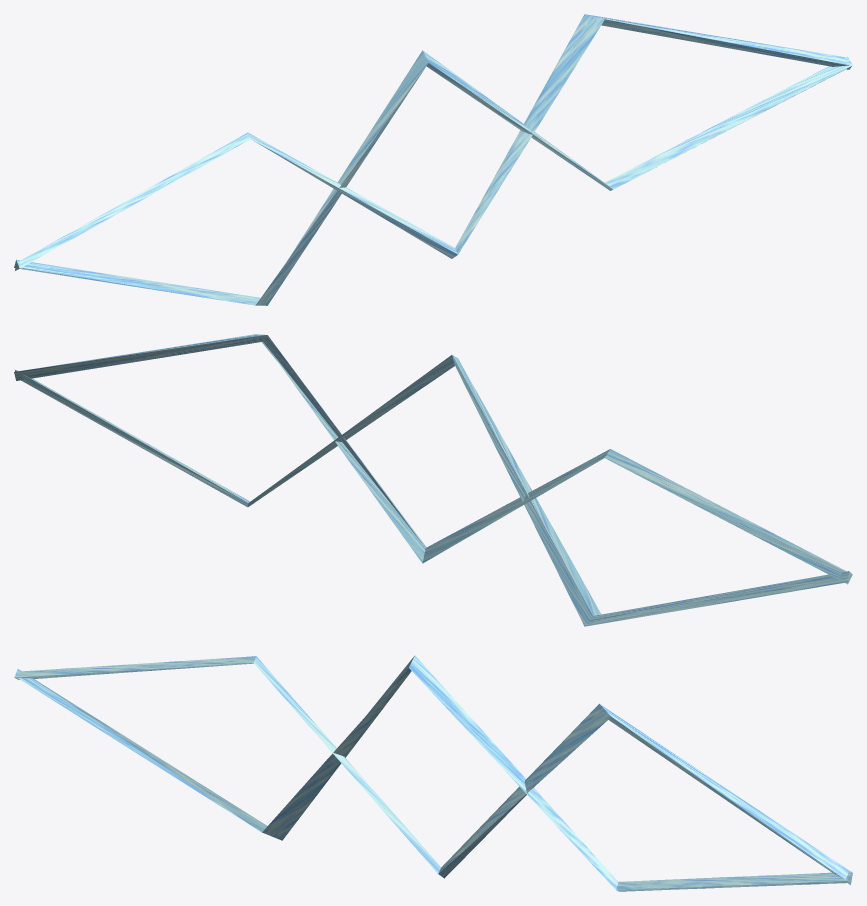
The model's file is bolt.obj.
3 views of the same model, one above another, from view 1: azimuth 30°, elevation 25°; view 2: azimuth 150°, elevation 25°; view 3: azimuth 330°, elevation 25° (orthographic).
Size of the model in its own units: 32.6 by 8.55 by 1.17.
Materials: 1 (1 with a texture image).
